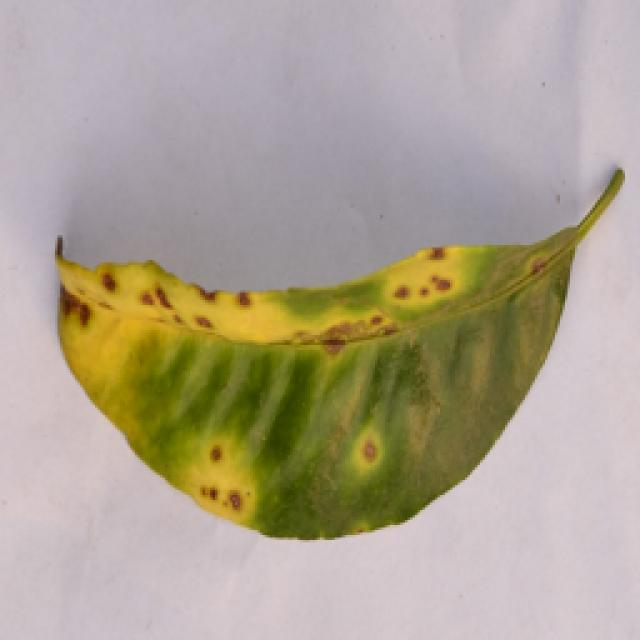canker: (40, 195, 601, 544)
